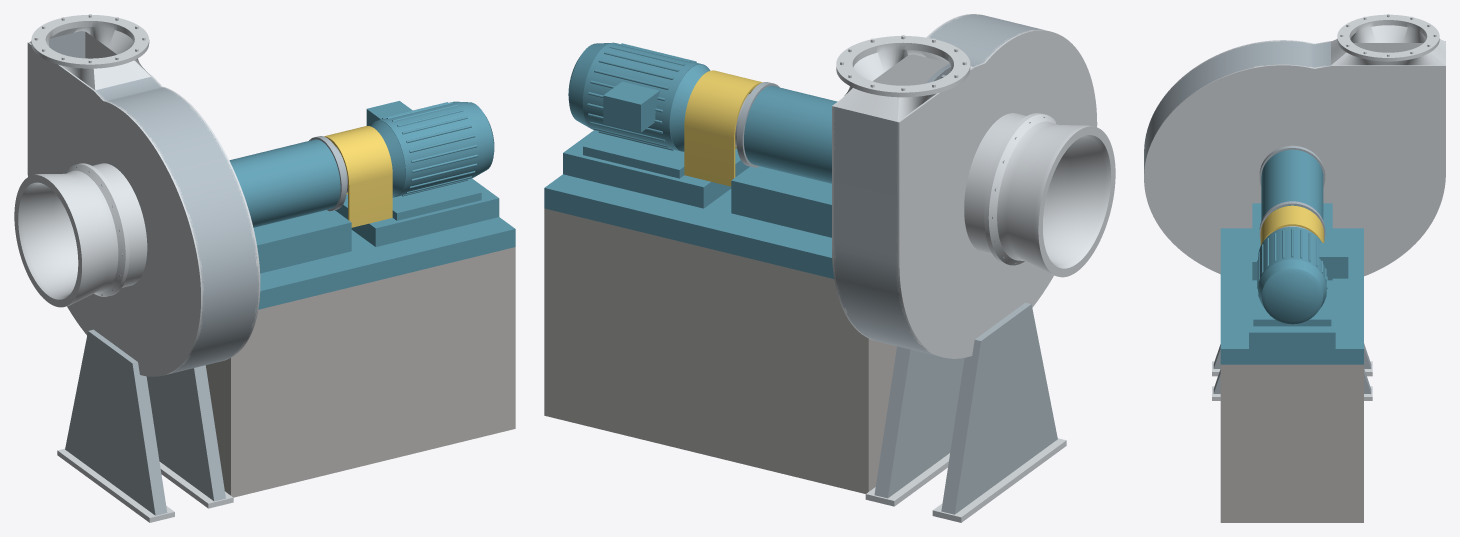
The picture shows the model from 3 angles, left to right: view 1: azimuth 30°, elevation 25°; view 2: azimuth 150°, elevation 25°; view 3: azimuth 270°, elevation 25°; orthographic projection. The views are drawn at different scales.
Visible parts, largest first — view 1: 传动底座_主座, 本体_进风侧蜗壳板, 蜗壳支架_支脚 (×2), 本体_蜗壳围板, 接口_中空喇叭口及进风法兰, 传动底座_安装板, 驱动_电机外壳 (×3), 驱动_轴承座壳体, 接口_上出风圆法兰及过渡管, 护罩_联轴器拱形罩, 传动底座_轴承座底脚, 传动底座_电机抬高座 (+5 smaller); view 2: 传动底座_主座, 本体_进风侧蜗壳板, 蜗壳支架_支脚 (×2), 接口_中空喇叭口及进风法兰, 本体_蜗壳围板, 传动底座_安装板, 驱动_电机外壳 (×3), 驱动_轴承座壳体, 接口_上出风圆法兰及过渡管, 护罩_联轴器拱形罩, 传动底座_轴承座底脚, 传动底座_电机抬高座 (+5 smaller); view 3: 本体_传动侧蜗壳板, 传动底座_主座, 传动底座_安装板, 驱动_电机外壳 (×3), 接口_上出风圆法兰及过渡管, 本体_蜗壳围板, 驱动_轴承座壳体, 传动底座_电机抬高座, 护罩_联轴器拱形罩, 传动底座_电机底脚, 传动底座_轴承座底脚, 驱动_电机接线盒 (+2 smaller).
Part boxes in pixels (x1,y1,x2,y2): 传动底座_主座: (206, 247, 515, 497); 本体_进风侧蜗壳板: (27, 42, 204, 376); 蜗壳支架_支脚 (×2): (65, 329, 225, 515); 本体_蜗壳围板: (49, 31, 258, 373); 接口_中空喇叭口及进风法兰: (14, 163, 147, 307); 传动底座_安装板: (258, 217, 515, 309); 驱动_电机外壳 (×3): (370, 101, 493, 197); 驱动_轴承座壳体: (229, 139, 340, 227); 接口_上出风圆法兰及过渡管: (29, 15, 150, 90); 护罩_联轴器拱形罩: (324, 126, 392, 227); 传动底座_轴承座底脚: (253, 210, 351, 273); 传动底座_电机抬高座: (335, 178, 499, 246); 传动底座_主座: (544, 208, 896, 493); 本体_进风侧蜗壳板: (896, 29, 1097, 358); 蜗壳支架_支脚 (×2): (874, 302, 1057, 514); 接口_中空喇叭口及进风法兰: (964, 113, 1115, 277); 本体_蜗壳围板: (833, 14, 1044, 356); 传动底座_安装板: (544, 174, 834, 278); 驱动_电机外壳 (×3): (569, 42, 710, 151); 驱动_轴承座壳体: (744, 86, 837, 183); 接口_上出风圆法兰及过渡管: (834, 36, 972, 121); 护罩_联轴器拱形罩: (684, 70, 762, 186); 传动底座_轴承座底脚: (731, 166, 831, 237); 传动底座_电机抬高座: (563, 130, 749, 208); 本体_传动侧蜗壳板: (1144, 64, 1445, 276); 传动底座_主座: (1220, 364, 1363, 522); 传动底座_安装板: (1220, 228, 1363, 364); 驱动_电机外壳 (×3): (1258, 227, 1326, 324); 接口_上出风圆法兰及过渡管: (1331, 14, 1445, 65); 本体_蜗壳围板: (1144, 40, 1330, 172); 驱动_轴承座壳体: (1261, 149, 1323, 220); 传动底座_电机抬高座: (1249, 280, 1335, 348); 护罩_联轴器拱形罩: (1260, 205, 1324, 245); 传动底座_电机底脚: (1253, 283, 1331, 326); 传动底座_轴承座底脚: (1252, 203, 1332, 280); 驱动_电机接线盒: (1319, 243, 1348, 278).
Bounding box in the file's own units: 2.75 × 2.44 × 1.92.
